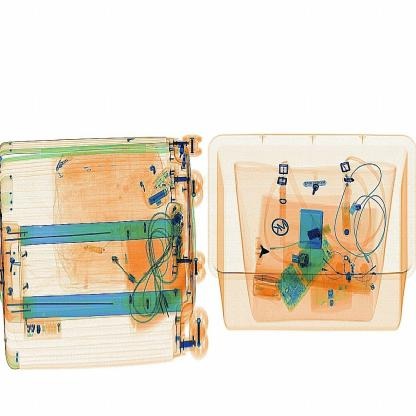gun: (247, 226, 273, 266)
